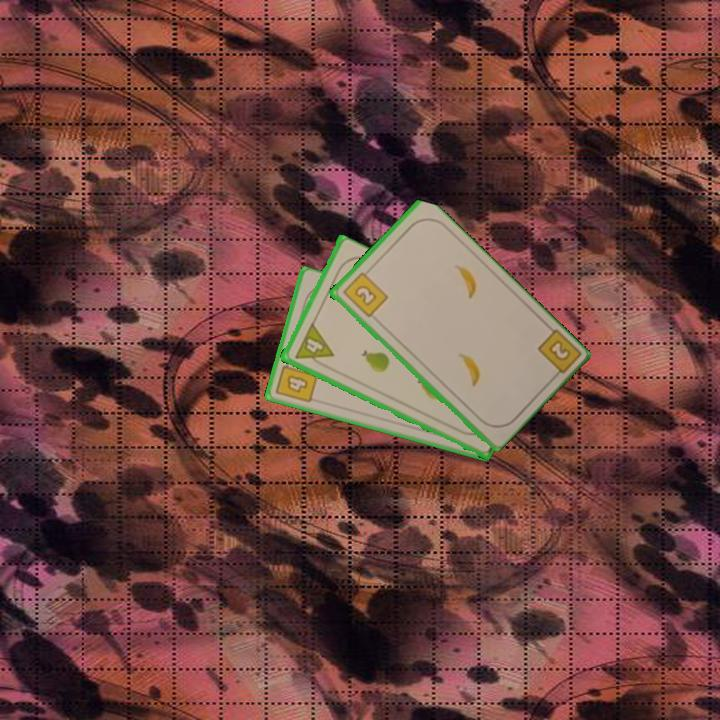2b: (533, 325, 582, 383), (339, 266, 390, 320)
4b: (272, 355, 320, 406)
4p: (291, 320, 336, 371)
